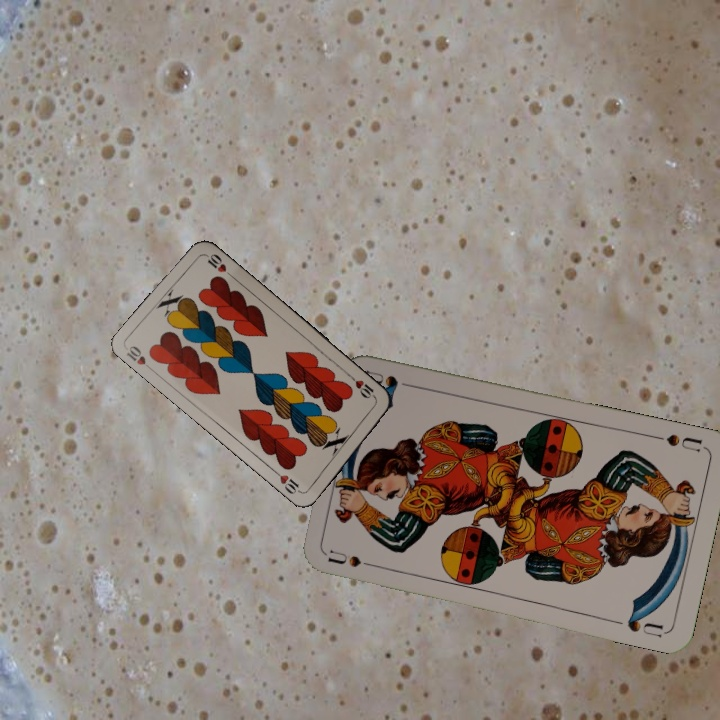H10: (122, 342, 157, 374), (346, 371, 379, 403)
SU: (325, 545, 384, 571), (648, 430, 707, 455)
